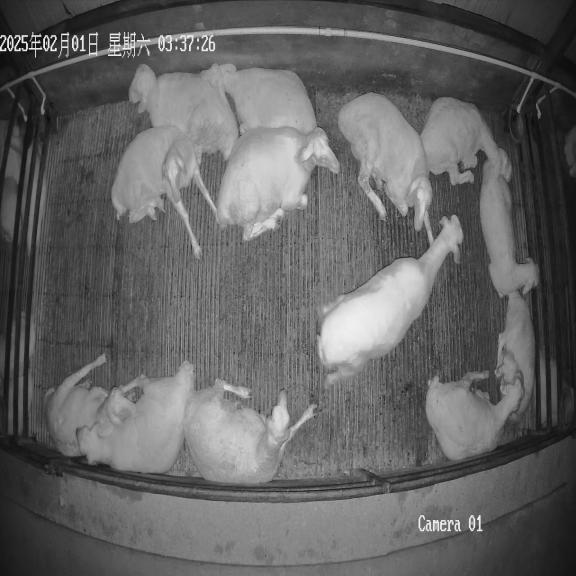lying: (338, 93, 432, 243), (216, 127, 340, 240), (184, 380, 316, 484), (111, 126, 215, 258), (77, 362, 194, 473), (128, 64, 239, 164), (45, 354, 141, 457), (425, 371, 522, 460), (200, 64, 317, 134), (421, 97, 512, 185), (480, 161, 538, 298), (495, 291, 534, 422)
stand: (317, 215, 463, 388)
